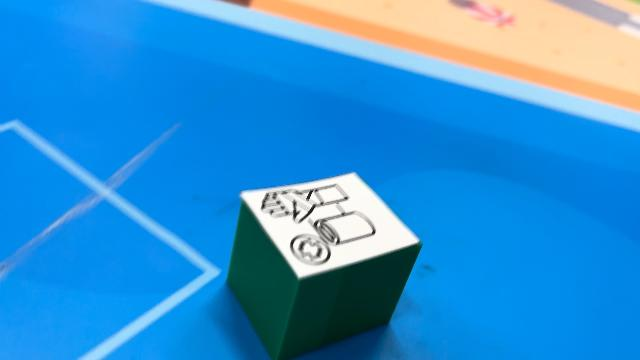bandage: (225, 170, 422, 358)
